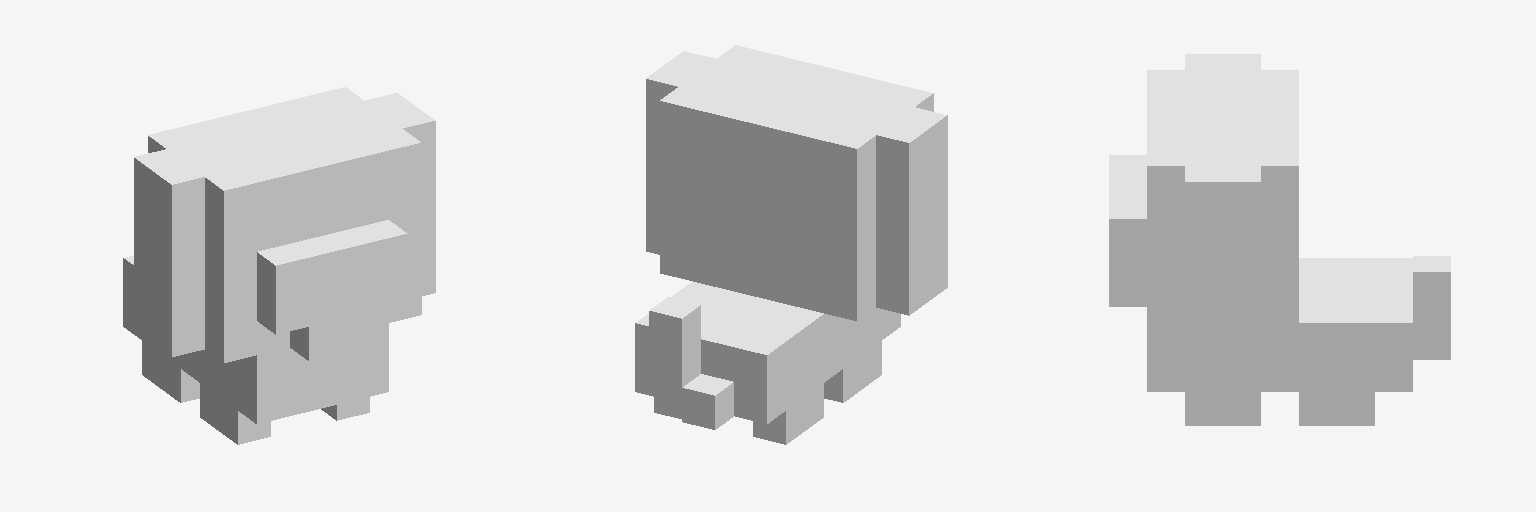
The model's file is dog_kansei.obj.
The picture shows the model from 3 angles: view 1: azimuth 30°, elevation 25°; view 2: azimuth 150°, elevation 25°; view 3: azimuth 270°, elevation 25°; orthographic projection.
Visible parts, largest first — view 1: dog_kansei; view 2: dog_kansei; view 3: dog_kansei.
Part boxes in pixels (x1,y1,x2,y2): dog_kansei: (123,87,435,444); dog_kansei: (635,45,947,444); dog_kansei: (1109,54,1450,425).
Bounding box in the file's own units: 8 × 8 × 9.